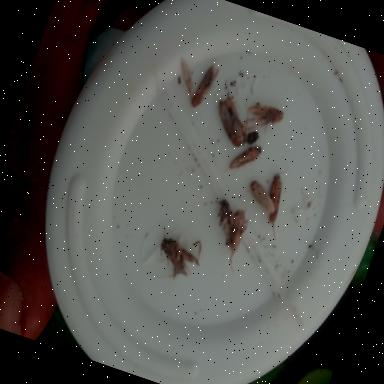pbw: (255, 162, 302, 244), (146, 226, 209, 286), (165, 50, 222, 112), (206, 95, 258, 150), (215, 210, 253, 274), (207, 198, 247, 248), (240, 100, 286, 141), (243, 180, 282, 216), (230, 139, 264, 178)
